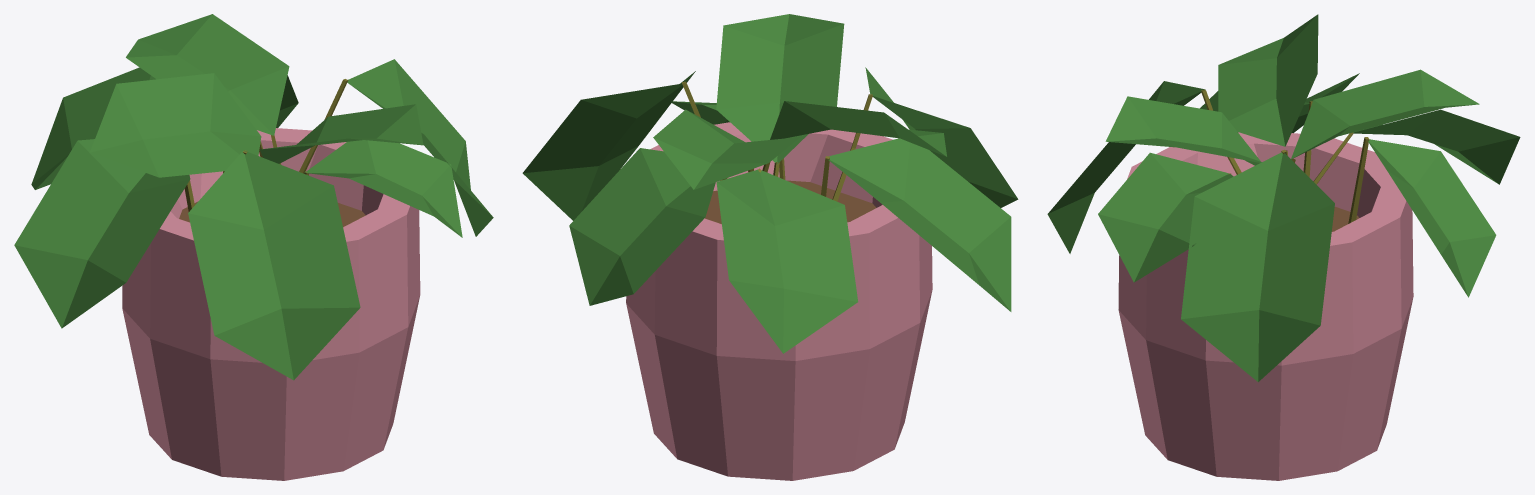
Rendered from Flower_23.fbx.
3 renders of one model, left to right at view 1: azimuth 30°, elevation 25°; view 2: azimuth 150°, elevation 25°; view 3: azimuth 270°, elevation 25°, orthographic. The views are drawn at different scales.
Visible parts, largest first — view 1: Flower_23; view 2: Flower_23; view 3: Flower_23.
Part boxes in pixels (x1,y1,x2,y2): Flower_23: [14, 14, 493, 480]; Flower_23: [522, 14, 1018, 480]; Flower_23: [1047, 14, 1520, 480].
Bounding box in the file's own units: 45.03 × 41.6 × 34.34.
